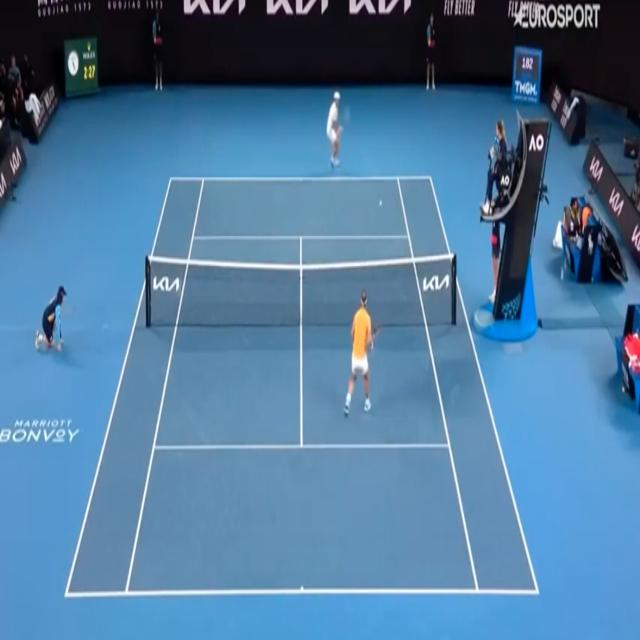ball: (379, 198, 383, 208)
